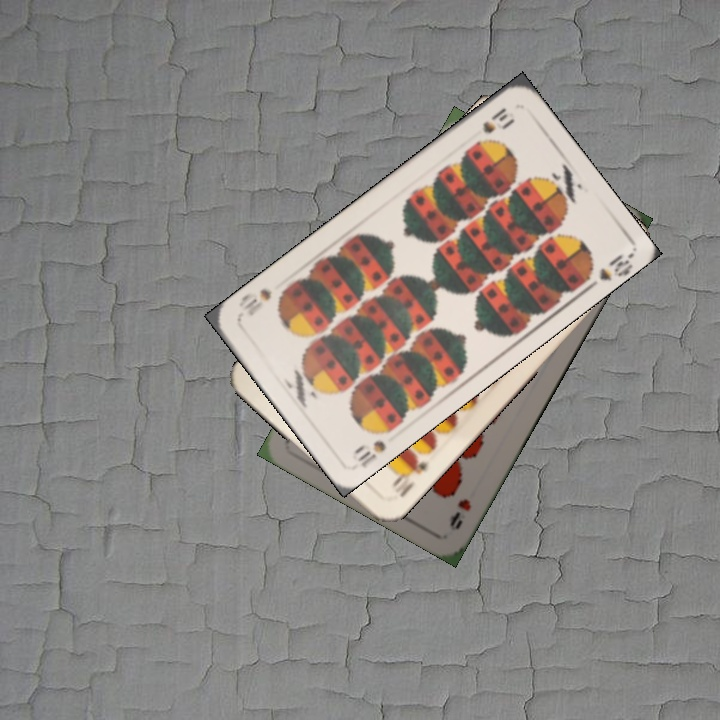E10: (388, 452, 432, 500)
H9: (445, 495, 474, 534)
S10: (350, 424, 397, 470), (478, 103, 516, 137)
